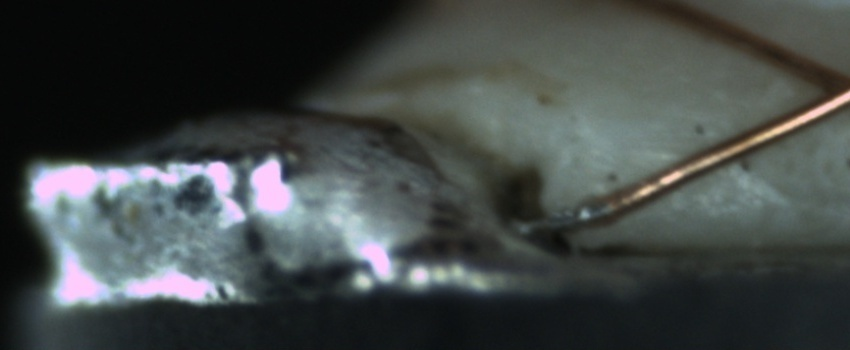CL: (781, 45, 848, 128)
TS: (520, 200, 605, 235)
TTCW: (512, 185, 639, 238)
